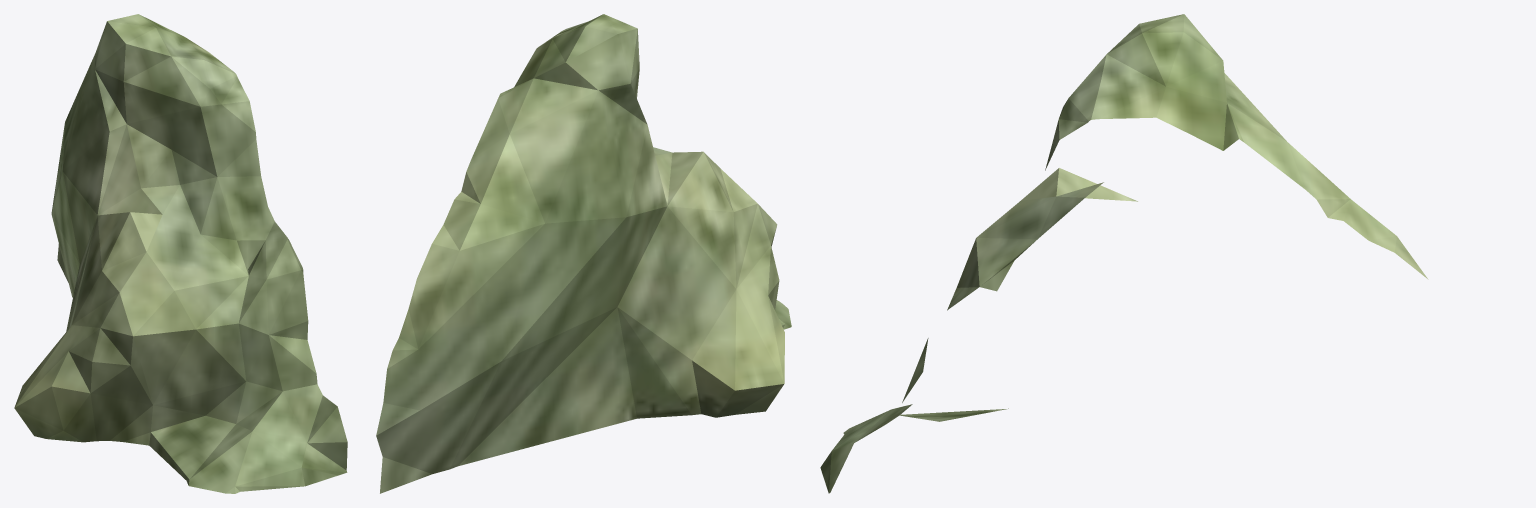
3 views of the same model, side by side, from view 1: azimuth 30°, elevation 25°; view 2: azimuth 150°, elevation 25°; view 3: azimuth 270°, elevation 25° (orthographic). The views are drawn at different scales.
Size of the model in its own units: 1.1 by 1.76 by 2.61.
1 material, 1 textured.
